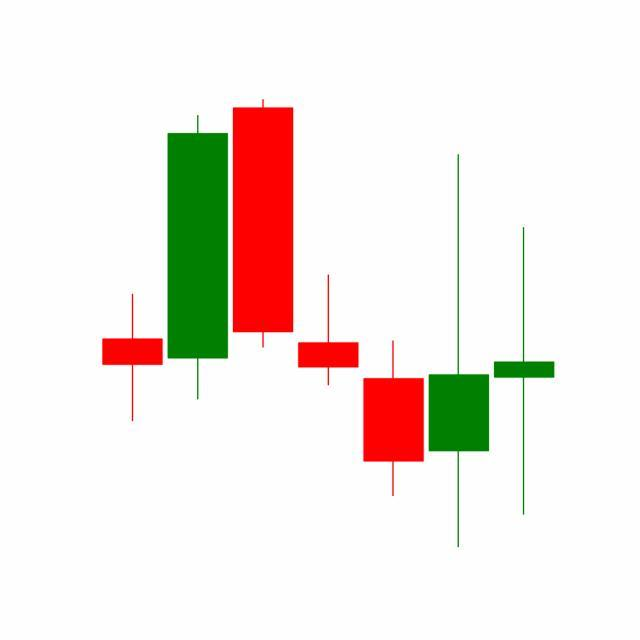Tasuki Gap: (295, 150, 492, 548)
